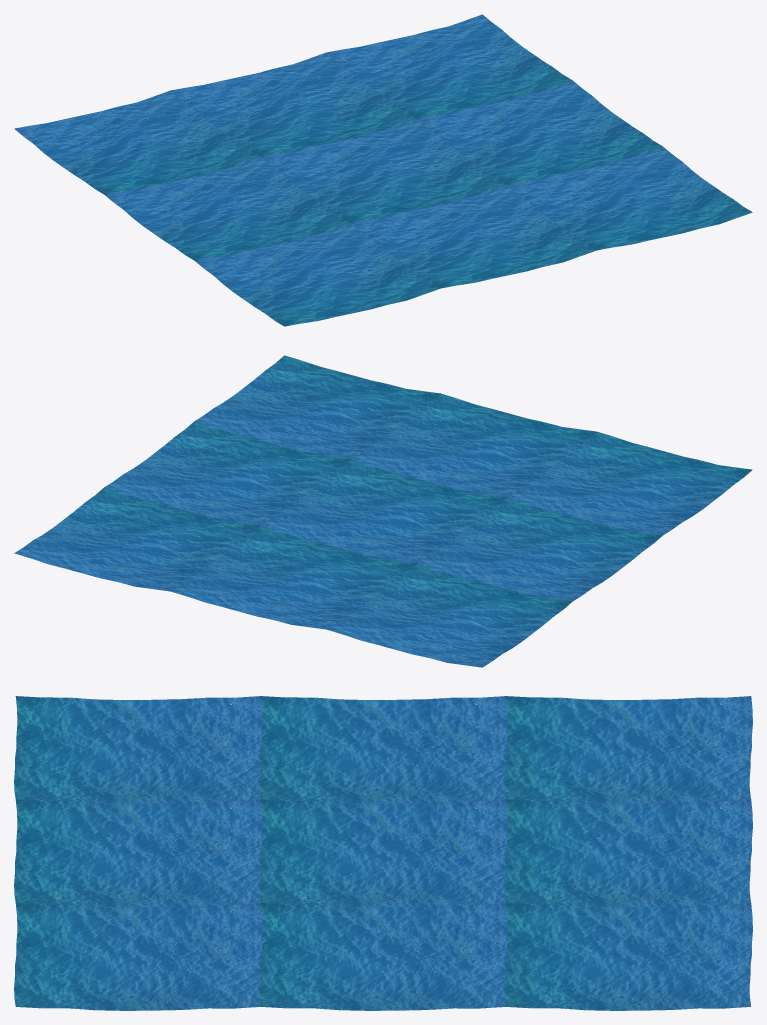
Rendered from ocean_000192.obj.
3 renders of one model, top to bottom at view 1: azimuth 30°, elevation 25°; view 2: azimuth 150°, elevation 25°; view 3: azimuth 270°, elevation 25°, orthographic. The views are drawn at different scales.
Parts seen in each view (by area): view 1: Ocean_Plan.001; view 2: Ocean_Plan.001; view 3: Ocean_Plan.001.
Boxes of the visible parts, x1=… form: Ocean_Plan.001: x1=14, y1=14, x2=752, y2=326; Ocean_Plan.001: x1=14, y1=355, x2=752, y2=667; Ocean_Plan.001: x1=14, y1=696, x2=752, y2=1010.
Size of the model in its own units: 109066 by 1605 by 109484.
Materials: 1 (1 with a texture image).
